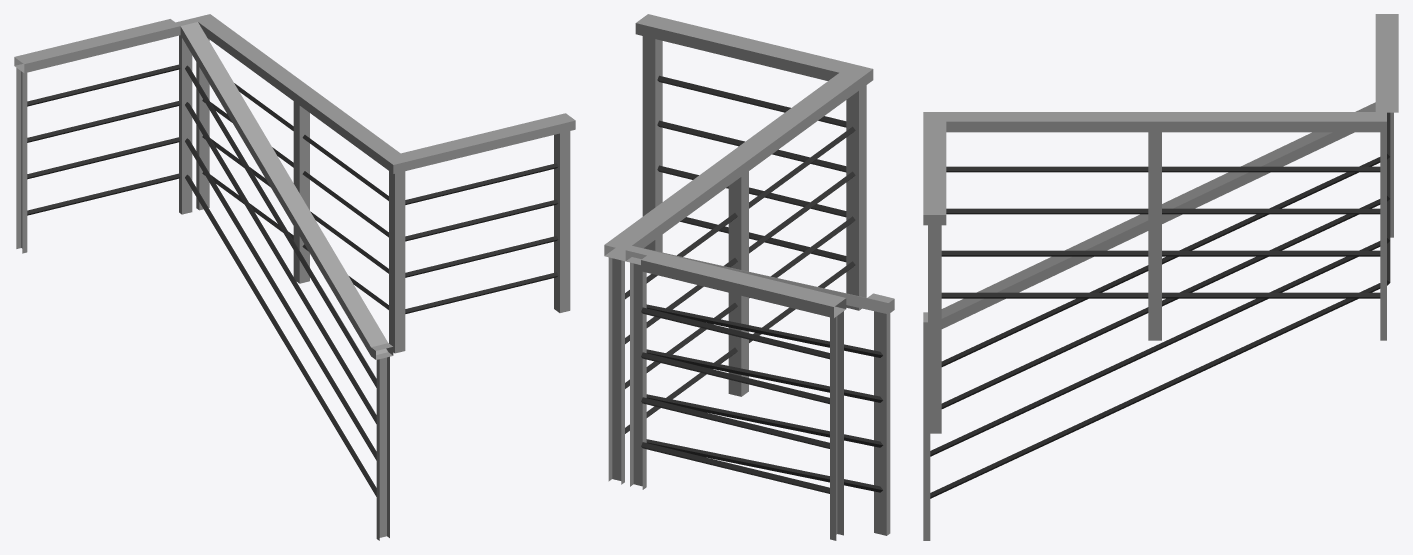
Rendered from Railings.fbx.
3 renders of one model, left to right at view 1: azimuth 30°, elevation 25°; view 2: azimuth 150°, elevation 25°; view 3: azimuth 270°, elevation 25°, orthographic. The views are drawn at different scales.
Parts seen in each view (by area): view 1: Railing_D, Railing_C, Railing_D_C, Railing_S, Railing_E; view 2: Railing_C, Railing_D, Railing_D_C, Railing_S, Railing_E; view 3: Railing_D, Railing_C, Railing_S, Railing_D_C, Railing_E.
Part boxes in pixels (x1=…): Railing_D: x1=176, y1=18, x2=393, y2=540; Railing_C: x1=293, y1=87, x2=566, y2=353; Railing_D_C: x1=14, y1=19, x2=180, y2=253; Railing_S: x1=193, y1=14, x2=309, y2=281; Railing_E: x1=557, y1=113, x2=575, y2=311; Railing_C: x1=646, y1=16, x2=873, y2=393; Railing_D: x1=626, y1=246, x2=894, y2=535; Railing_D_C: x1=641, y1=251, x2=846, y2=540; Railing_S: x1=604, y1=154, x2=749, y2=484; Railing_E: x1=635, y1=14, x2=658, y2=249; Railing_D: x1=923, y1=102, x2=1386, y2=540; Railing_C: x1=923, y1=112, x2=1155, y2=340; Railing_S: x1=1155, y1=112, x2=1386, y2=340; Railing_D_C: x1=1375, y1=14, x2=1398, y2=285; Railing_E: x1=923, y1=210, x2=946, y2=433.
Bounding box in the file's own units: 205 × 205 × 205.
